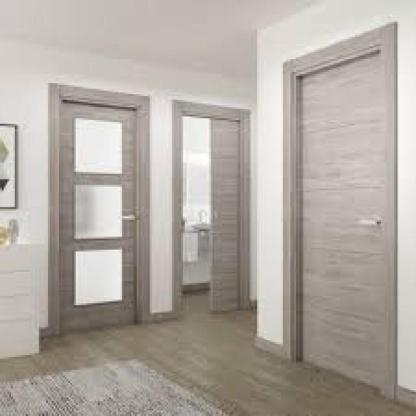door: (275, 36, 407, 403), (41, 85, 147, 347), (163, 93, 249, 329)
